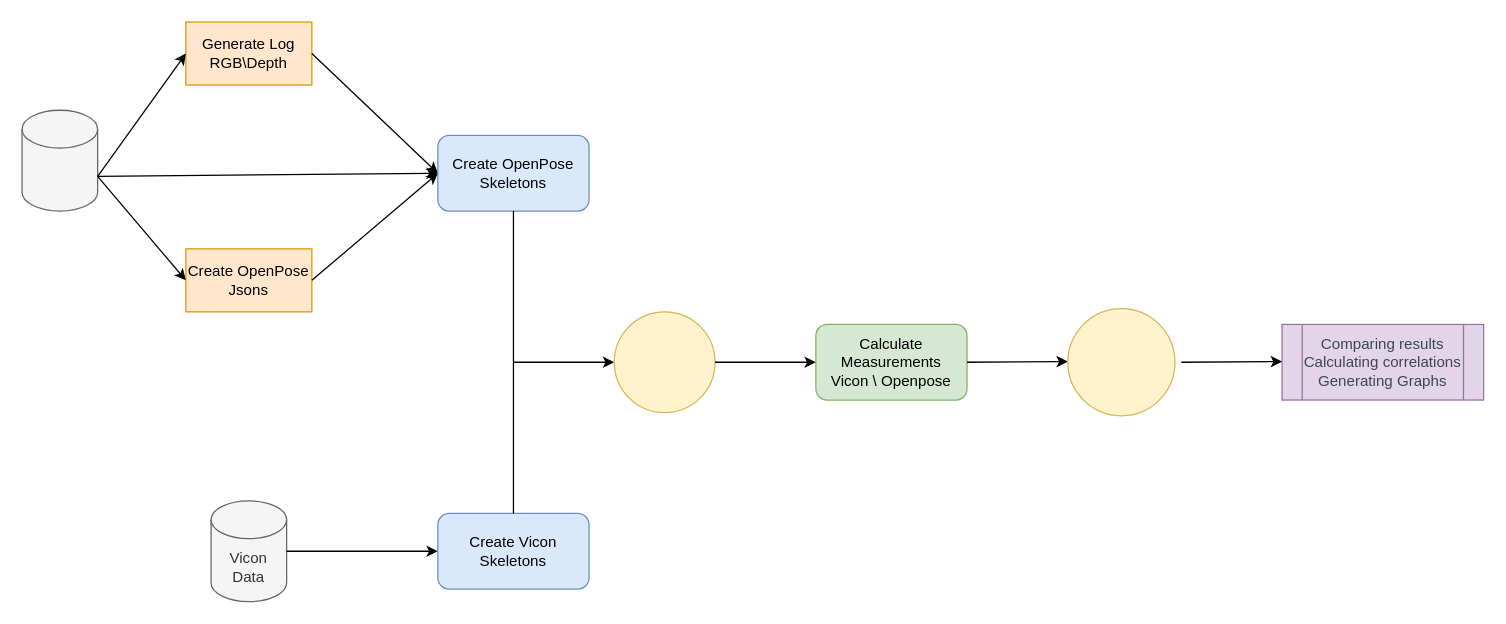
This 1506x624 diagram has some shape labels left out. Each missing label, with the centre of its shape:
"Bag Files" belongs at pixel 59 160.
"Match Frames Openpose / Vicon" belongs at pixel 1121 361.
"Sync Timestamps" belongs at pixel 664 362.
